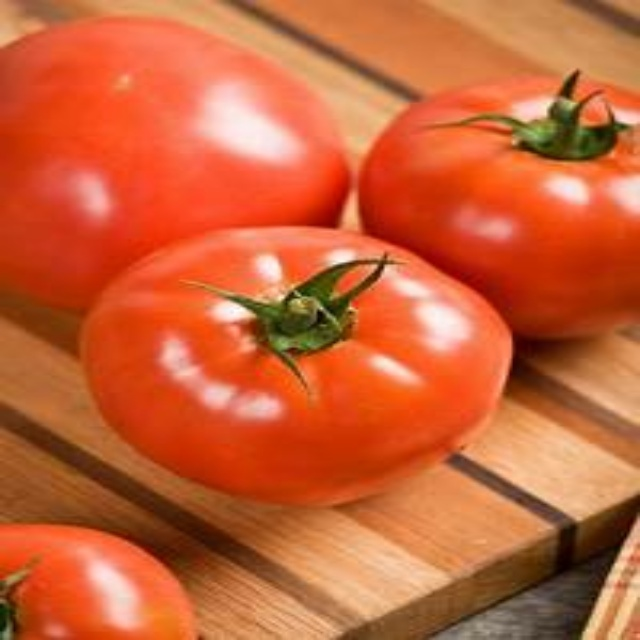tomato: (86, 225, 505, 502), (4, 21, 348, 299), (368, 79, 639, 343)
